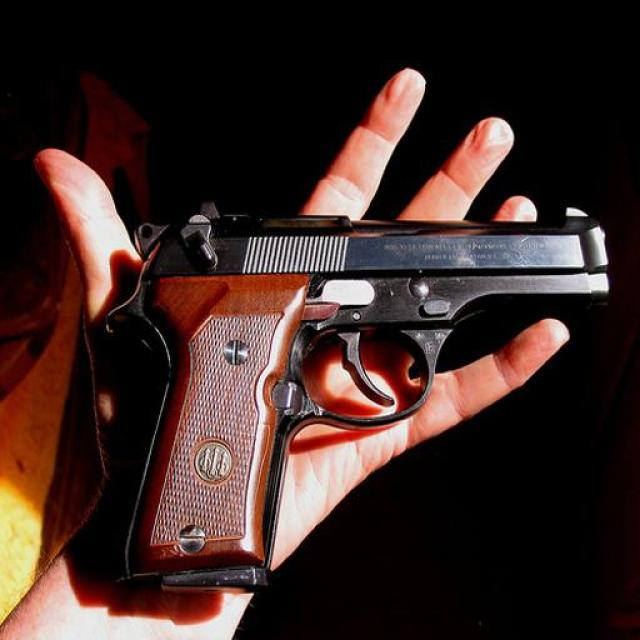pistol: (110, 200, 609, 596)
